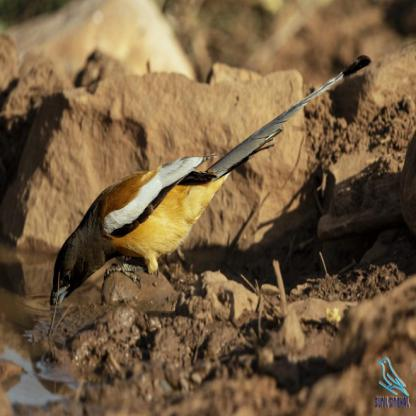Burung: (49, 54, 371, 305)
